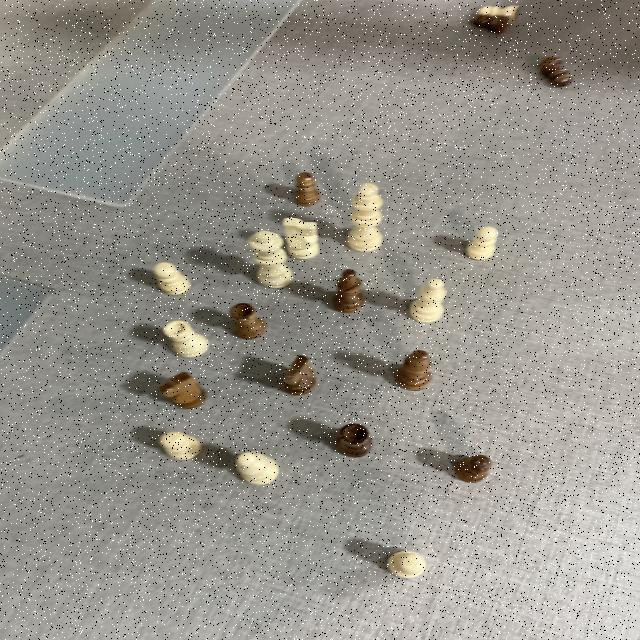Black-Bishop: (396, 349, 436, 392), (334, 268, 366, 314)
Black-Knight: (162, 371, 208, 409), (281, 357, 319, 394)
Black-Pawn: (456, 454, 492, 484), (293, 172, 321, 208), (540, 56, 572, 86), (473, 12, 507, 38)
Black-Rook: (228, 302, 264, 338), (336, 422, 372, 456)
White-Bishop: (409, 278, 447, 324), (233, 453, 280, 485)
White-King: (348, 185, 382, 251)
White-Knight: (286, 214, 319, 267)
White-Pawn: (152, 263, 193, 295), (386, 552, 426, 578), (162, 432, 200, 459), (467, 226, 497, 260), (474, 4, 526, 22)
White-Queen: (248, 231, 290, 288)
White-Rook: (164, 323, 208, 355)
